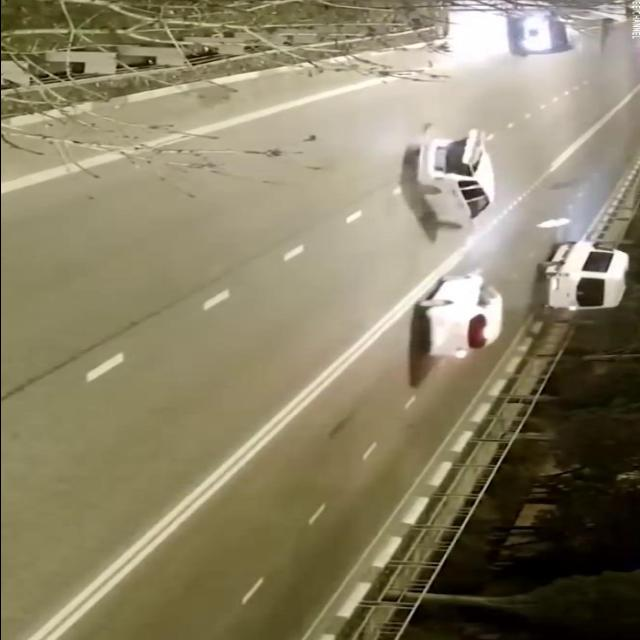accident: (384, 127, 514, 237)
